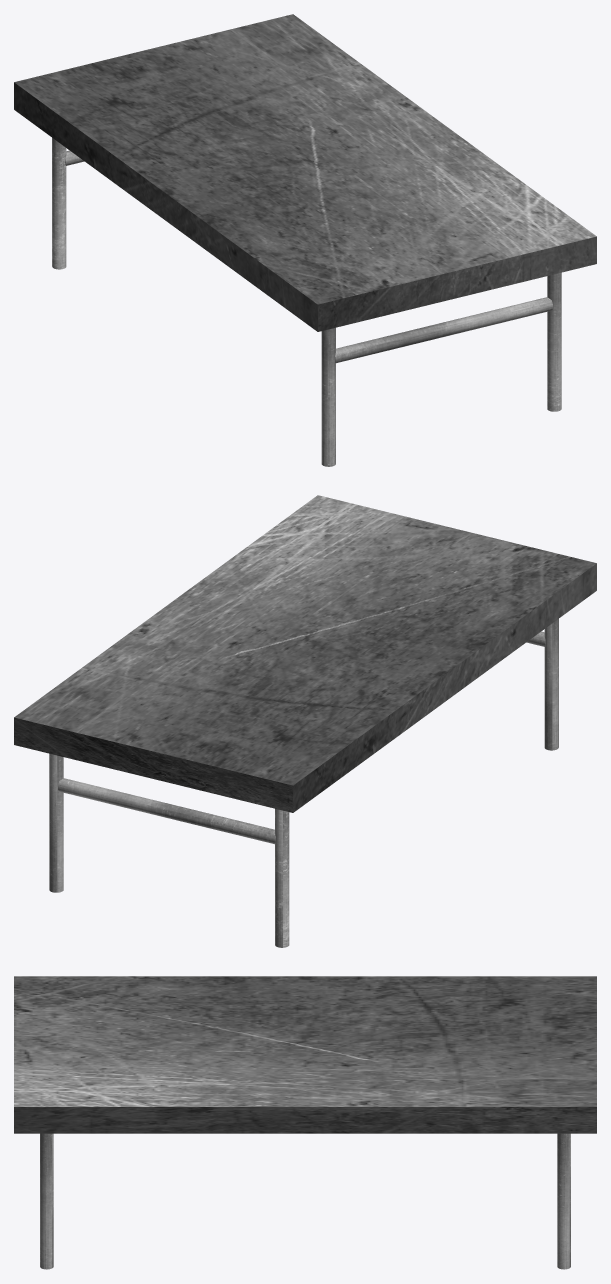
The model's file is basement table.fbx.
3 renders of one model, top to bottom at view 1: azimuth 30°, elevation 25°; view 2: azimuth 150°, elevation 25°; view 3: azimuth 270°, elevation 25°, orthographic. The views are drawn at different scales.
Visible parts, largest first — view 1: pCube1, pCylinder2; view 2: pCube1, pCylinder2; view 3: pCube1, pCylinder2.
Boxes of the visible parts, bbox=[...] form: pCube1: bbox=[14, 14, 596, 331]; pCylinder2: bbox=[52, 138, 561, 466]; pCube1: bbox=[14, 495, 596, 812]; pCylinder2: bbox=[49, 619, 558, 947]; pCube1: bbox=[14, 976, 596, 1133]; pCylinder2: bbox=[40, 1133, 570, 1269].
Bounding box in the file's own units: 5.41 × 3.31 × 10.2.
Materials: 1 (1 with a texture image).
